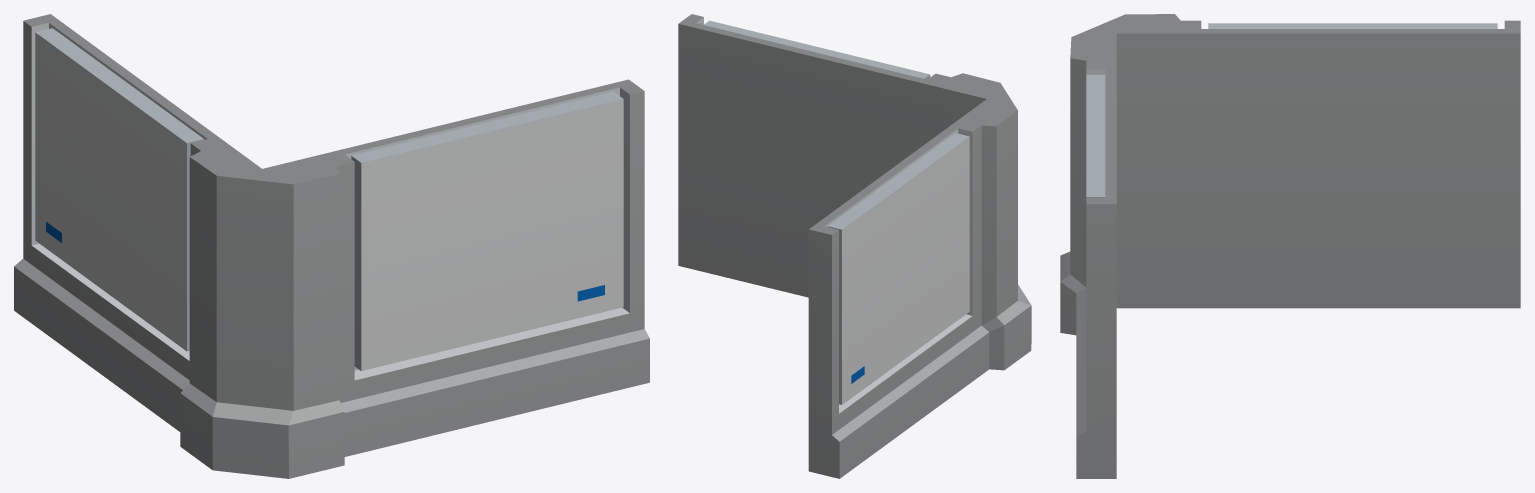
Rendered from Wall_type_A_038.fbx.
3 renders of one model, left to right at view 1: azimuth 30°, elevation 25°; view 2: azimuth 150°, elevation 25°; view 3: azimuth 270°, elevation 25°, orthographic. The views are drawn at different scales.
Visible parts, largest first — view 1: Wall_type_A_038; view 2: Wall_type_A_038; view 3: Wall_type_A_038.
Boxes of the visible parts, x1,y1,x2,y2 form: Wall_type_A_038: (14, 14, 649, 478); Wall_type_A_038: (678, 14, 1031, 478); Wall_type_A_038: (1060, 14, 1520, 478).
Bounding box in the file's own units: 228 × 228 × 150.
